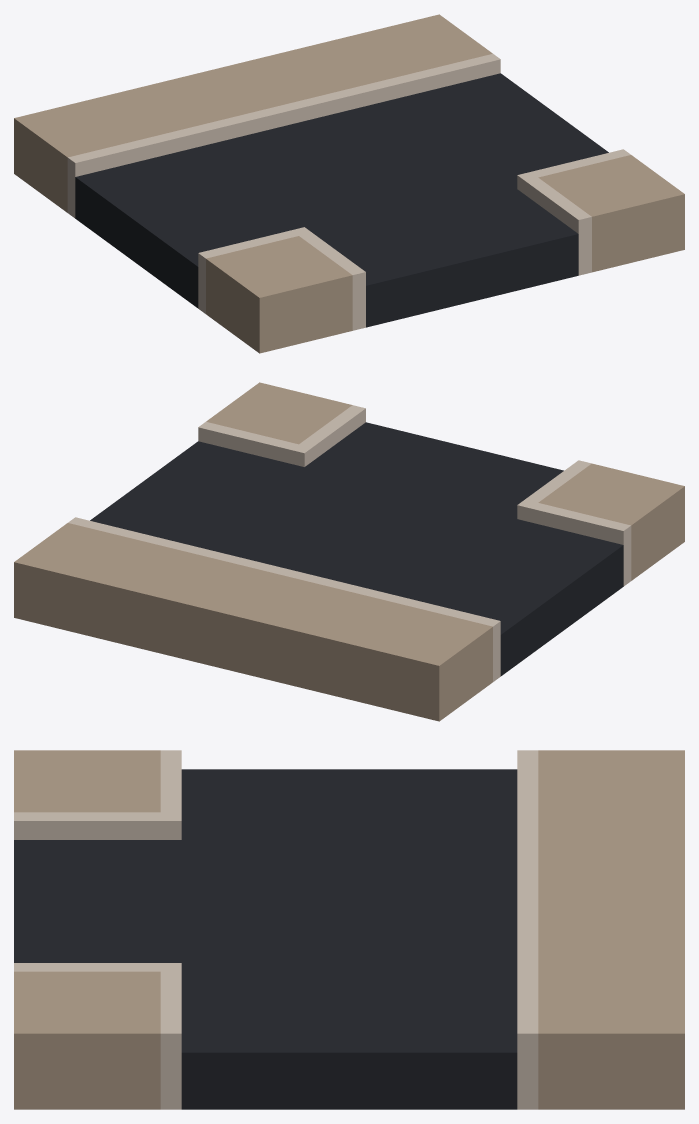
File: road4.obj
3 renders of one model, top to bottom at view 1: azimuth 30°, elevation 25°; view 2: azimuth 150°, elevation 25°; view 3: azimuth 270°, elevation 25°, orthographic. The views are drawn at different scales.
Bounding box in the file's own units: 3.2 × 0.4 × 3.2.
Materials: 1 (1 with a texture image).
